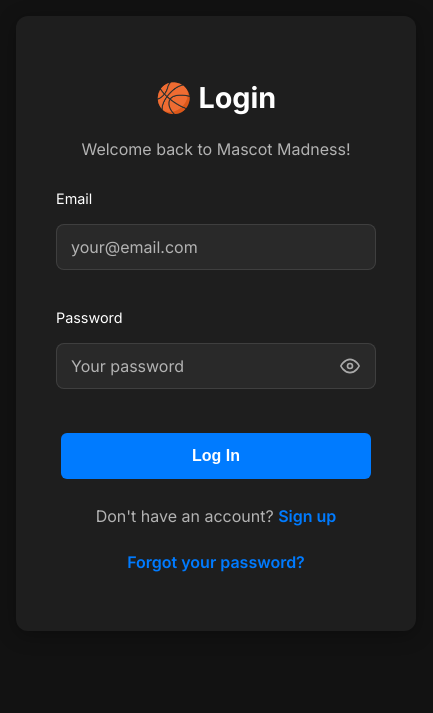
Test: Login Page › shows error validation for empty fields
The width and height of the screenshot is (433, 713).
Click the button "Log In": click(216, 456) [61,433,371,479]
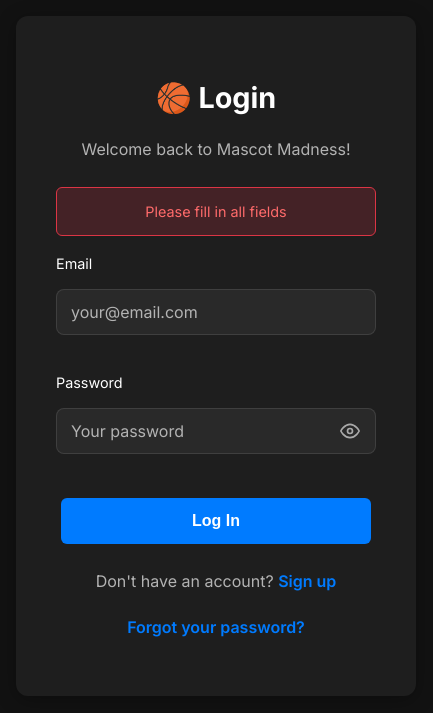
Check: the text "Please fill in all fields" is shown, box [56,187,376,236]
